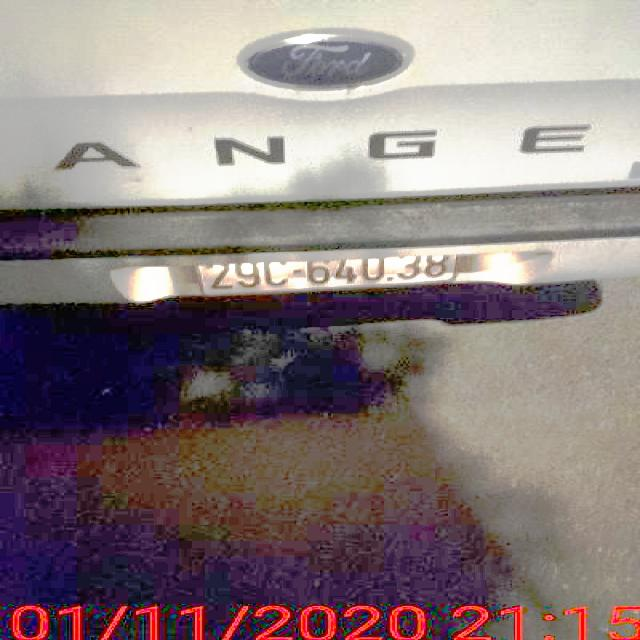license_plate: (203, 249, 463, 298)
